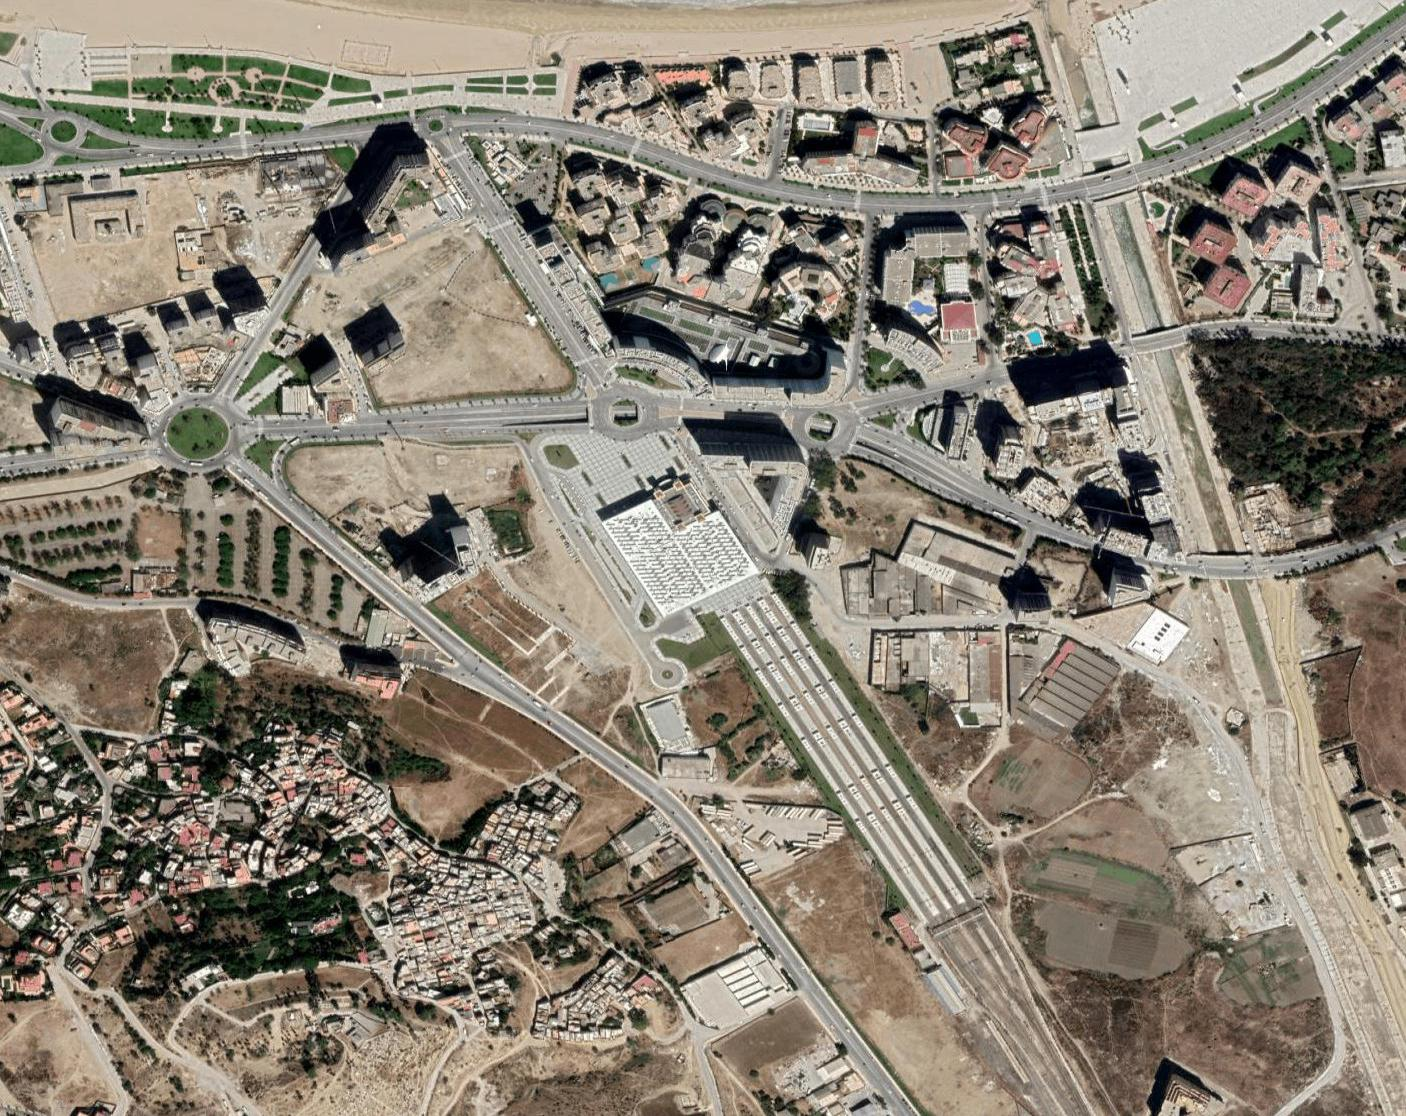motorway: (777, 951, 918, 1116), (662, 800, 795, 954), (223, 453, 367, 593), (367, 563, 512, 702), (512, 680, 666, 802)
train_station: (585, 442, 834, 702)
